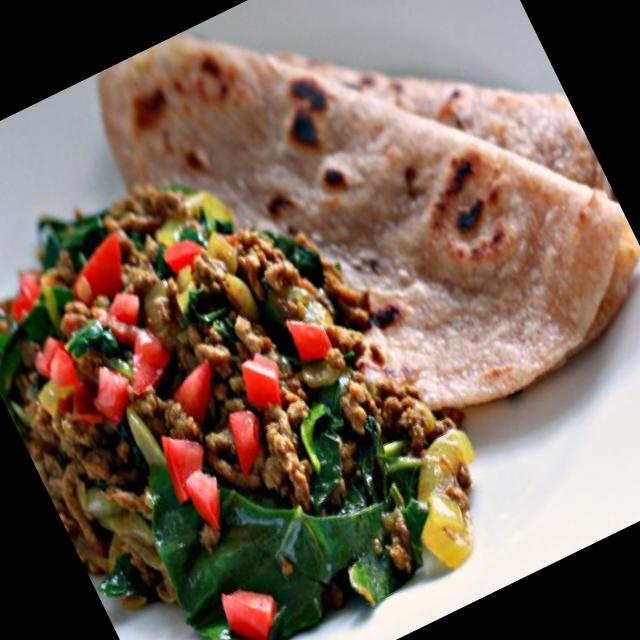roti: (97, 32, 640, 405)
